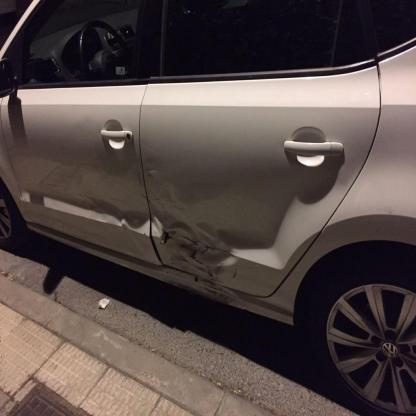door: (1, 66, 382, 298)
